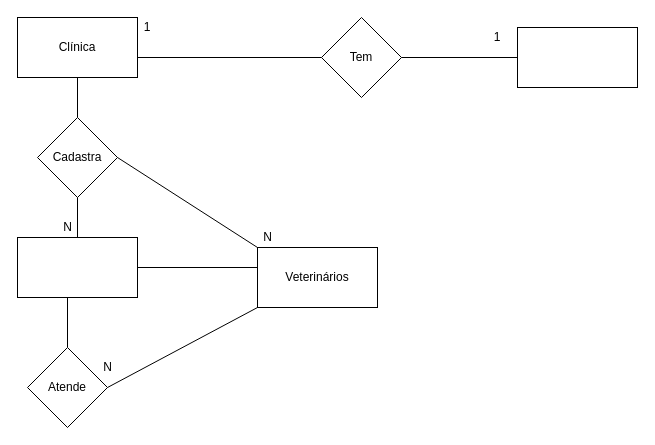
The diagram is 655 pixels wide and 445 high, and some of its shapes have lost their labels. The centre of each missing label's shape, as x and y in pixels:
Endereço: point 577,57
Pets: point 77,267
